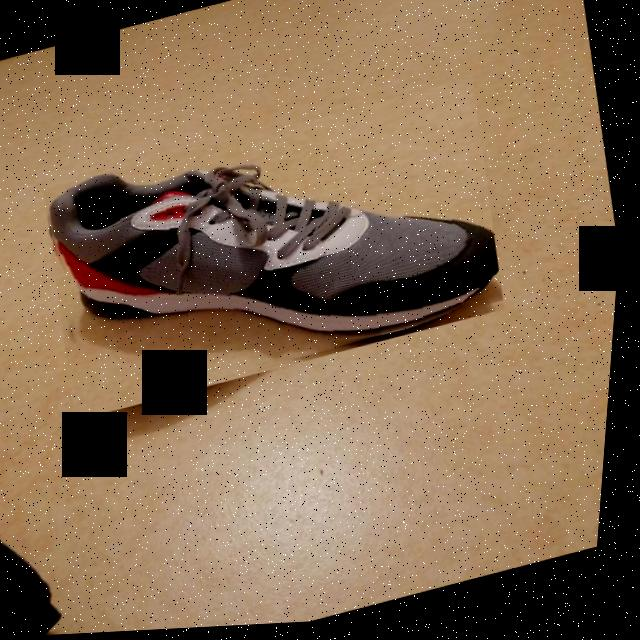shoe: (32, 80, 523, 424)
